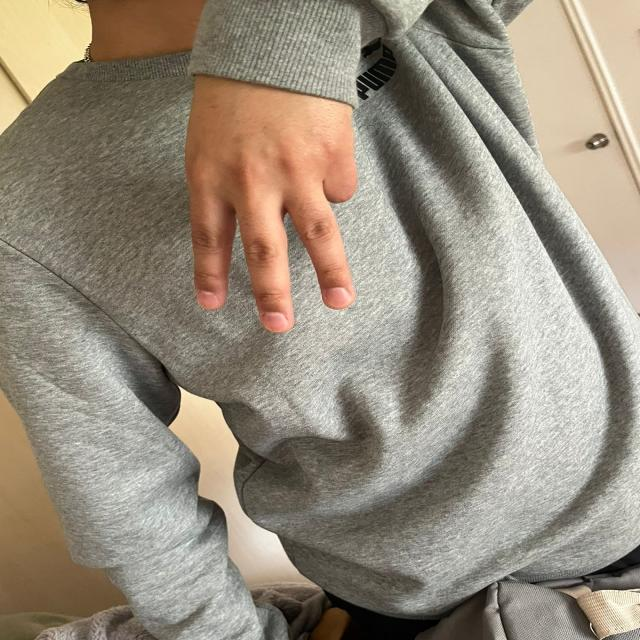M: (178, 56, 374, 334)
